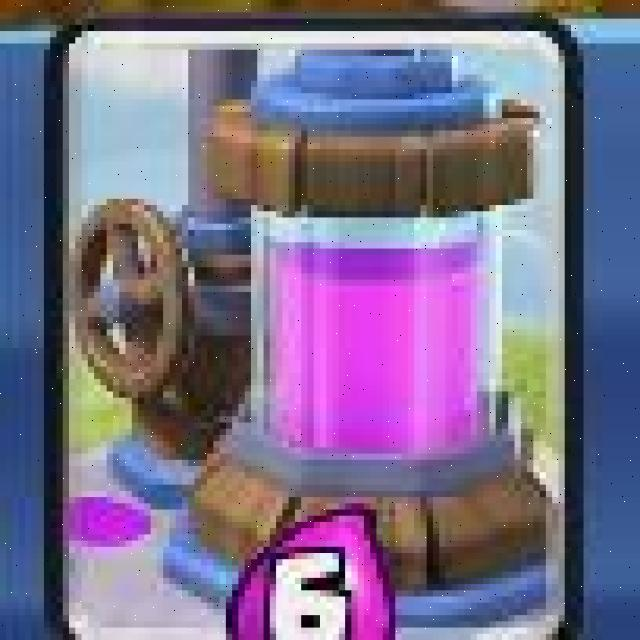Elixir_Pump: (45, 14, 579, 639)
